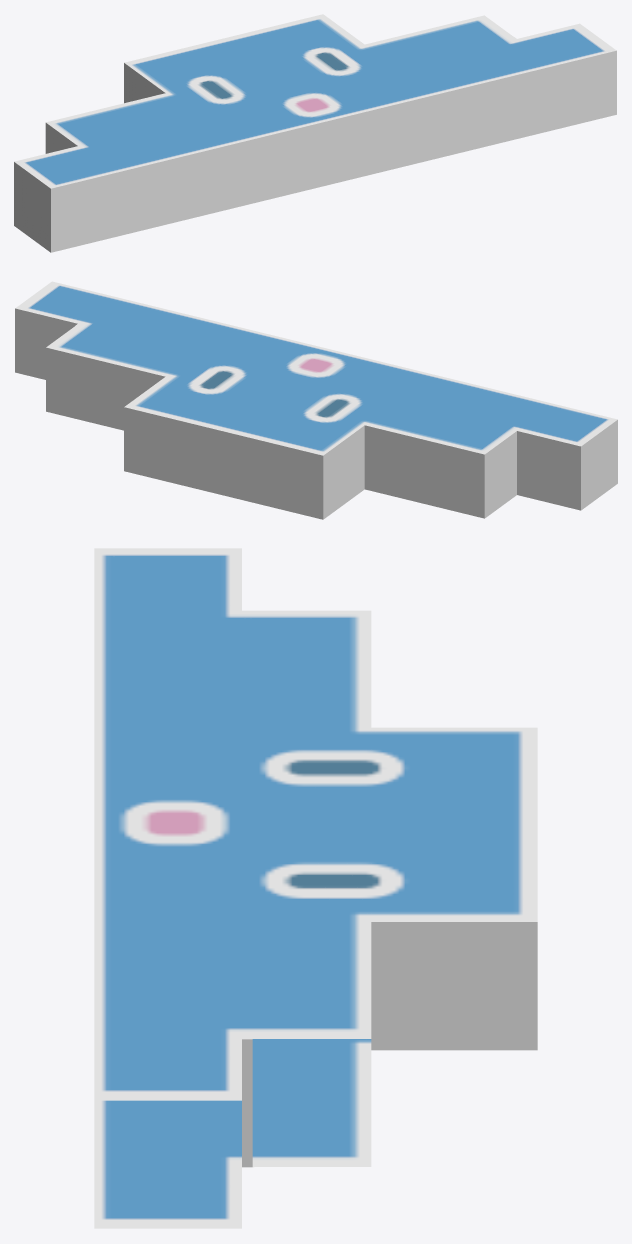
File: wolk.dae
3 views of the same model, one above another, from view 1: azimuth 30°, elevation 25°; view 2: azimuth 150°, elevation 25°; view 3: azimuth 270°, elevation 25° (orthographic). The views are drawn at different scales.
Visible parts, largest first — view 1: Curve; view 2: Curve; view 3: Curve.
Boxes of the visible parts, left/top/right/bottom form: Curve: left=14, top=14, right=616, bottom=252; Curve: left=15, top=281, right=617, bottom=519; Curve: left=94, top=548, right=537, bottom=1228.
Bounding box in the file's own units: 0.1622 × 0.0549 × 0.0175.
1 material, 1 textured.
